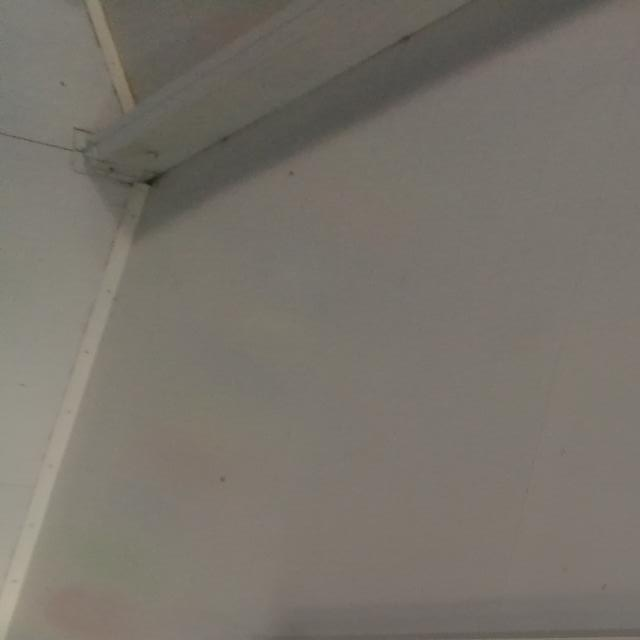fluorescent tube: (190, 593, 640, 640)
